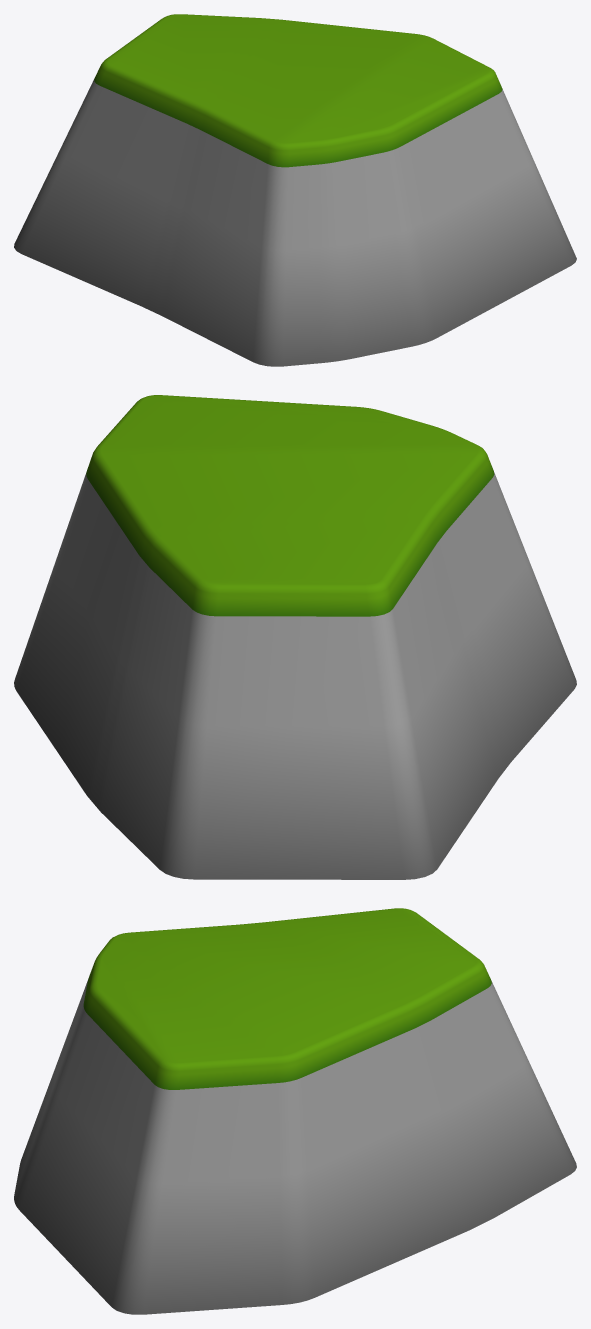
Rendered from Mountain02.fbx.
3 views of the same model, one above another, from view 1: azimuth 30°, elevation 25°; view 2: azimuth 150°, elevation 25°; view 3: azimuth 270°, elevation 25° (orthographic). The views are drawn at different scales.
Visible parts, largest first — view 1: LOD0; view 2: LOD0; view 3: LOD0.
Part boxes in pixels (x1,y1,x2,y2): LOD0: (14,14,576,366); LOD0: (14,395,576,879); LOD0: (14,908,576,1314).
Size of what is drawn, in the model's own units: 858 by 893 by 375.
